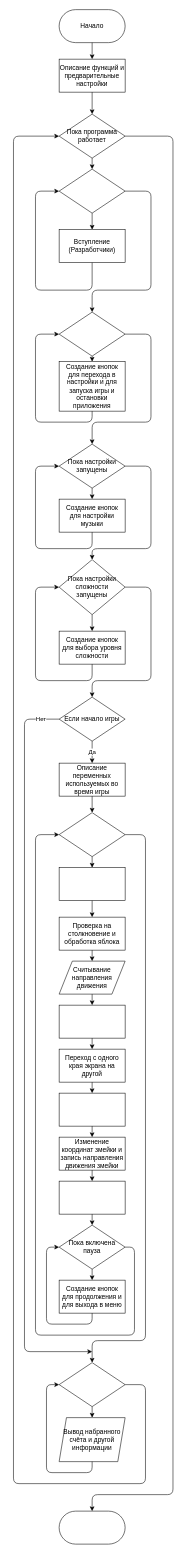
Image size: 187x1554. Some labels were removed from this diagram. Here are the shapes that lost their labels. From the top down, the centre of each, then its label:
(x=92, y=191): Пока вступление запущено
(x=92, y=334): Пока меню запущено
(x=92, y=834): Пока идёт игра
(x=92, y=884): Увеличение счёта и обработка золотого яблока
(x=92, y=1021): Изменение координат головы змейки
(x=92, y=1109): Рисование объектов и окружения
(x=92, y=1197): Расчёт текстур змейки (где должен быть какой поворот и т.д.)
(x=92, y=1384): Пока включён экран поражения
(x=92, y=1527): Конец
